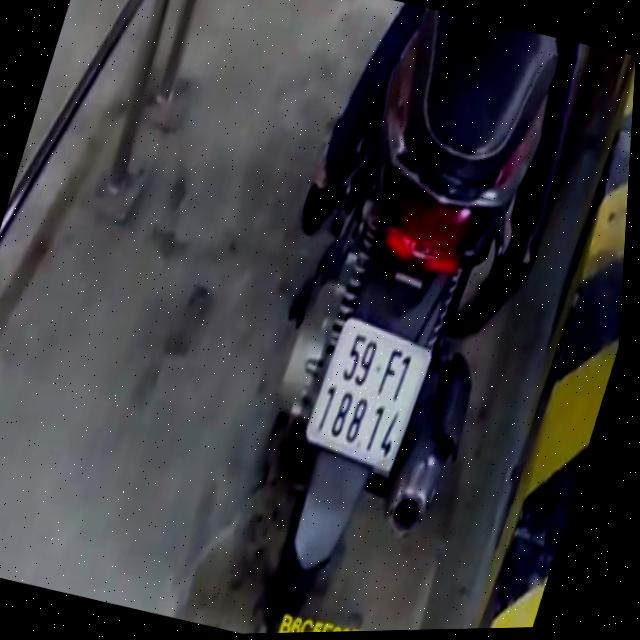motorcycle: (190, 0, 597, 635)
plate: (292, 308, 442, 479)
